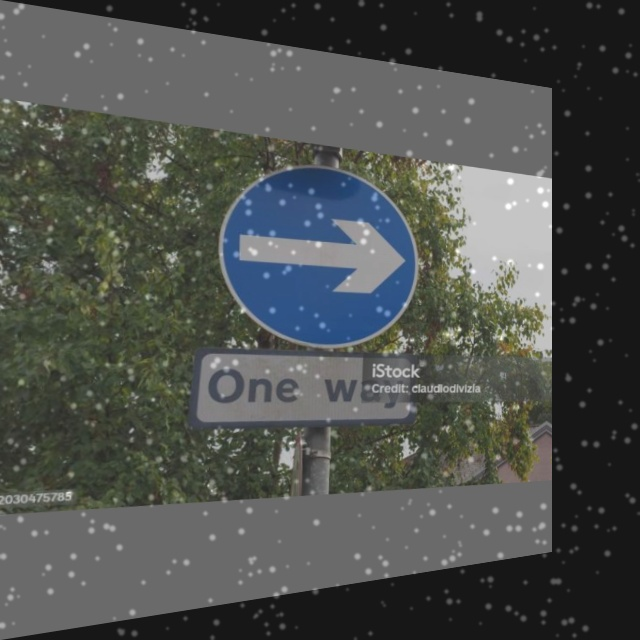Compulsory_Turn_Right: (214, 150, 423, 354)
